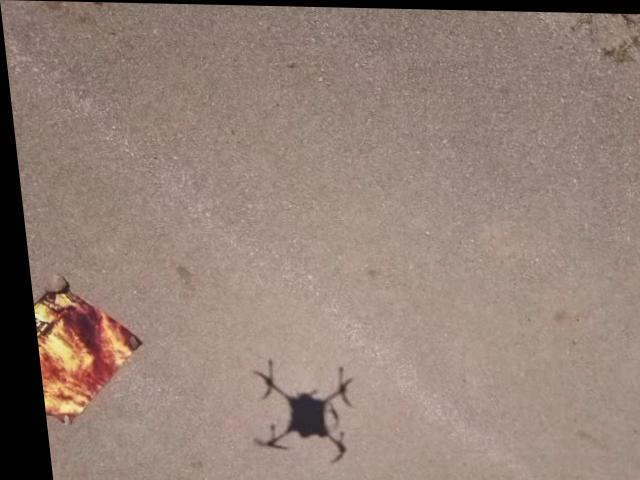fire-poster: (24, 275, 143, 429)
